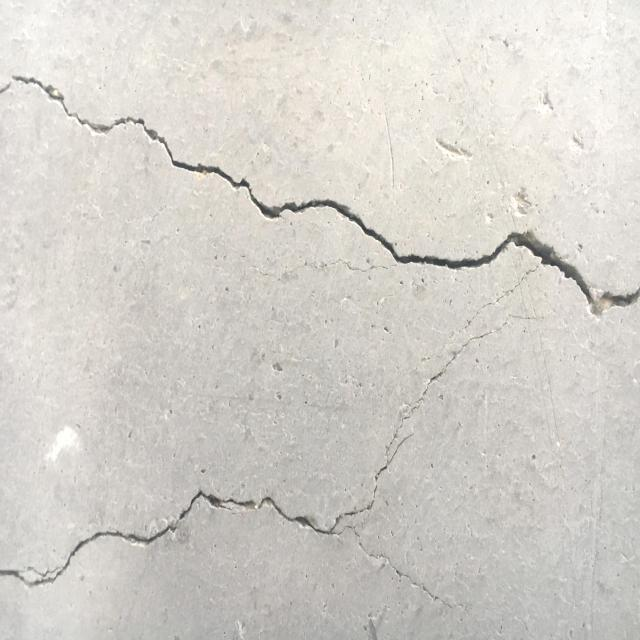SurfaceCrack: (1, 39, 639, 328)
